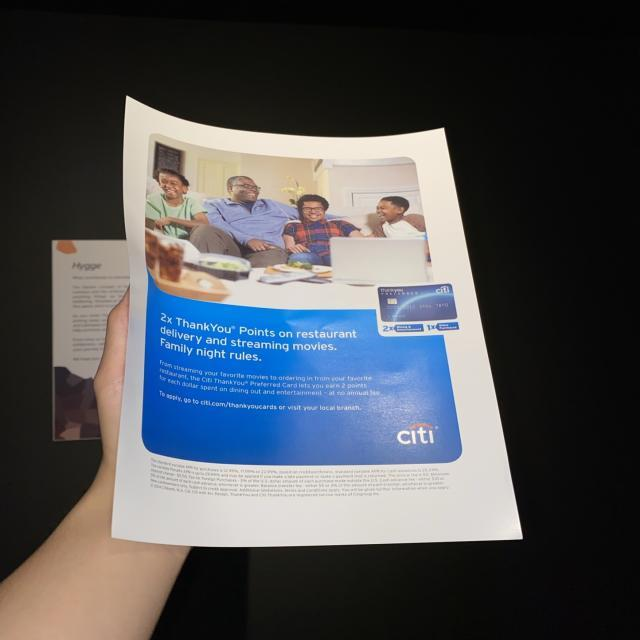document: (113, 98, 521, 546)
